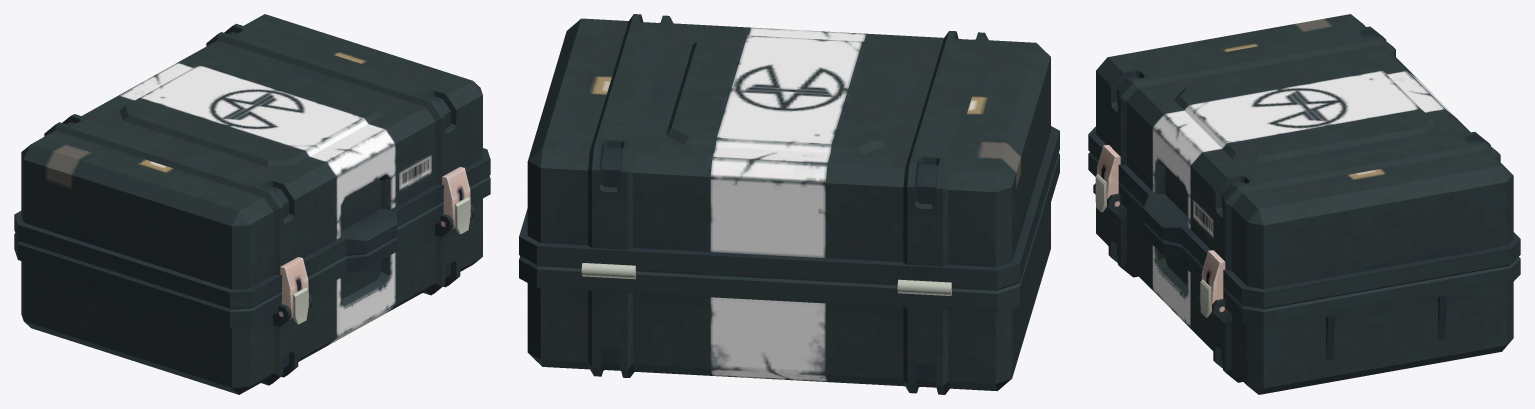
The model's file is AirSupply (8).fbx.
The picture shows the model from 3 angles, left to right: view 1: azimuth 30°, elevation 25°; view 2: azimuth 150°, elevation 25°; view 3: azimuth 270°, elevation 25°; orthographic projection. The views are drawn at different scales.
Visible parts, largest first — view 1: Box_upper, Crate, Lock_R_01 1, Lock_L_01 1, Lock_L_02 1, Lock_R_02 1; view 2: Box_upper, Crate; view 3: Box_upper, Crate, Lock_R_01 1, Lock_L_01 1, Lock_L_02 1.
Boxes of the visible parts, <box> form: Box_upper: <box>14,14,490,309</box>; Crate: <box>14,176,490,394</box>; Lock_R_01 1: <box>442,167,471,228</box>; Lock_L_01 1: <box>280,257,309,319</box>; Lock_L_02 1: <box>292,287,308,324</box>; Lock_R_02 1: <box>454,197,469,234</box>; Box_upper: <box>519,14,1059,295</box>; Crate: <box>519,153,1059,394</box>; Box_upper: <box>1088,14,1520,309</box>; Crate: <box>1088,152,1520,394</box>; Lock_R_01 1: <box>1201,250,1225,310</box>; Lock_L_01 1: <box>1096,145,1120,205</box>; Lock_L_02 1: <box>1095,174,1106,212</box>.
Bounding box in the file's own units: 1.59 × 0.682 × 1.37.
2 materials, 2 textured.
